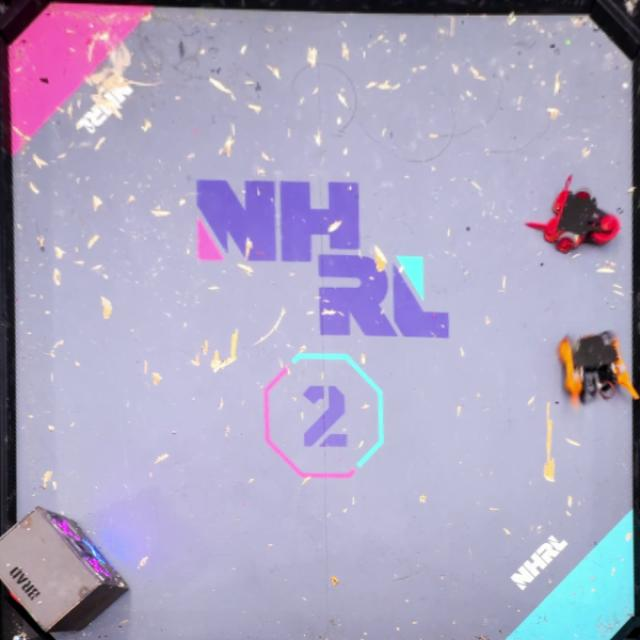housebot: (0, 507, 129, 633)
robot: (523, 175, 618, 253), (559, 329, 640, 409)
